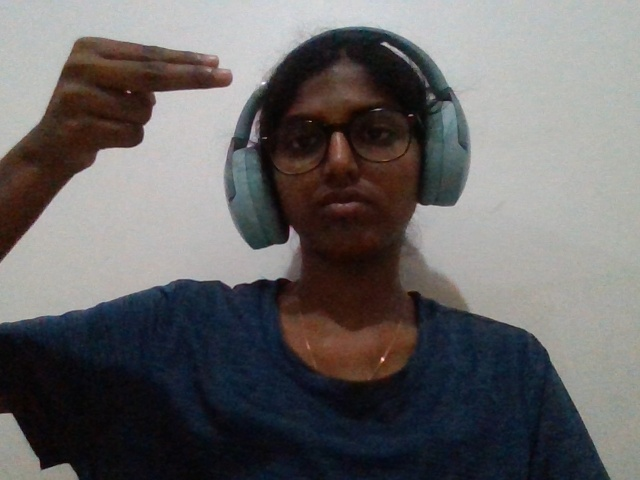H: (1, 21, 252, 188)
